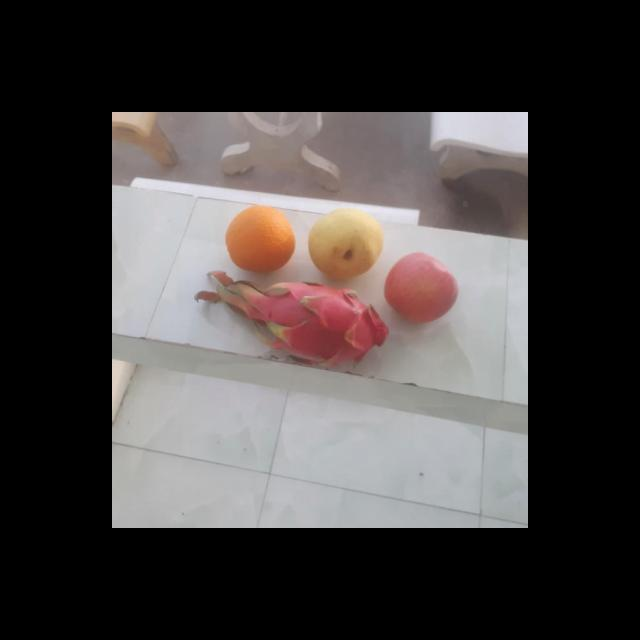orange: (221, 202, 296, 272)
pear: (304, 208, 388, 282)
pitaya: (258, 281, 397, 371)
